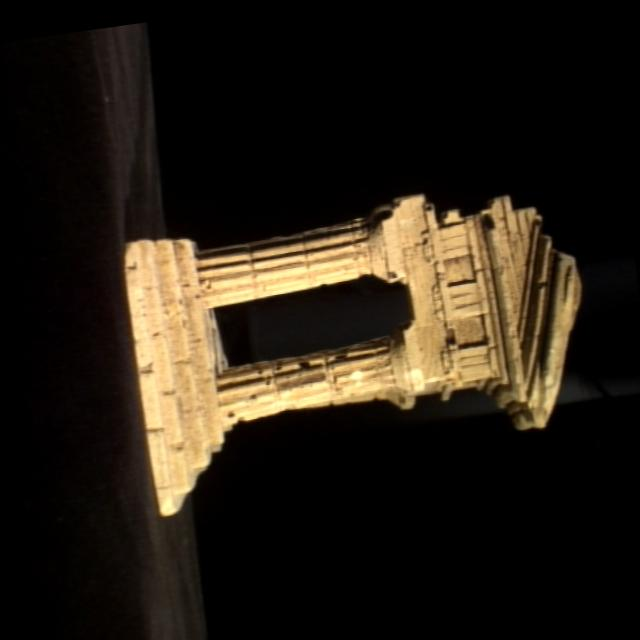Instance-Segmentation: (123, 197, 579, 515)
